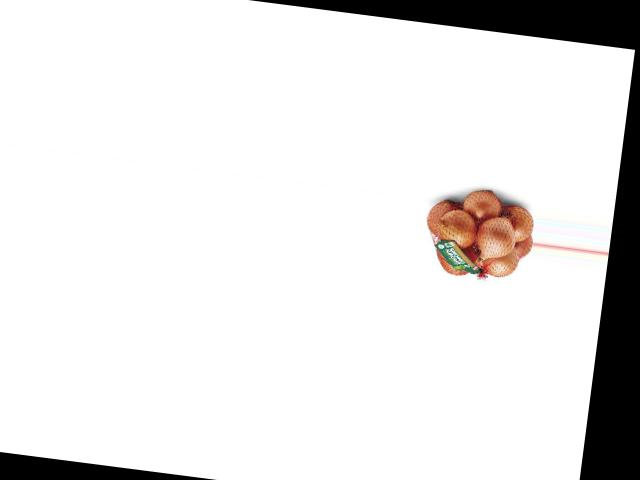onion: (422, 196, 463, 236)
